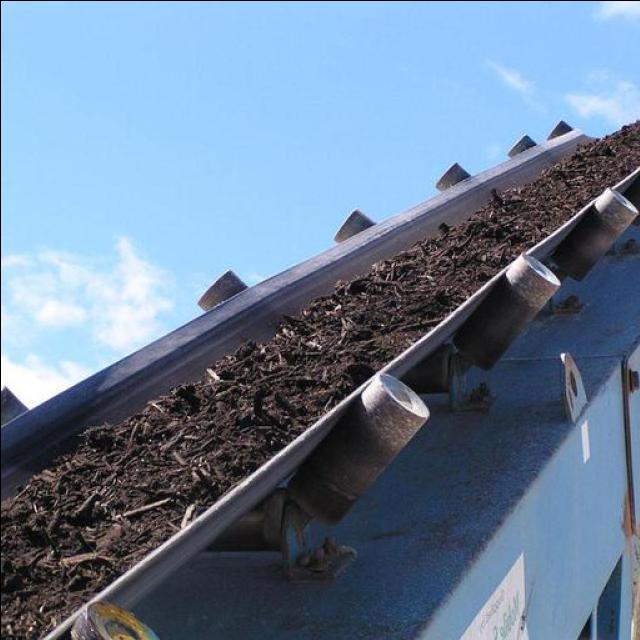conveyor: (0, 127, 640, 640)
